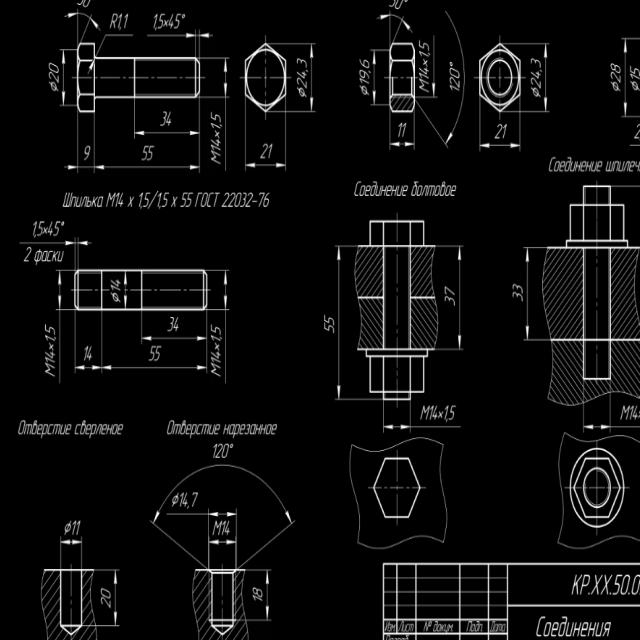marking_line: (334, 249, 344, 397), (104, 364, 206, 374), (95, 162, 199, 171), (523, 250, 533, 341), (65, 10, 101, 35), (456, 248, 464, 349), (622, 40, 631, 116), (147, 32, 215, 42), (142, 334, 206, 344), (542, 47, 550, 112), (479, 142, 521, 152), (112, 570, 119, 626), (221, 59, 231, 98), (59, 53, 66, 105), (221, 272, 231, 307), (63, 161, 95, 171), (384, 421, 413, 432), (209, 507, 235, 518), (74, 363, 103, 372), (243, 164, 284, 170), (390, 141, 416, 150), (57, 273, 63, 307), (208, 539, 239, 545)
numeric: (40, 323, 57, 383), (30, 216, 66, 239), (208, 325, 223, 378), (423, 405, 457, 425), (209, 115, 224, 153), (527, 56, 543, 89), (319, 314, 338, 338), (212, 441, 233, 462), (212, 520, 234, 539), (296, 56, 309, 88), (98, 587, 114, 612), (621, 401, 640, 422), (109, 11, 129, 30), (443, 286, 458, 311), (179, 491, 199, 509), (259, 140, 275, 162), (358, 60, 372, 85), (493, 123, 510, 142), (510, 280, 524, 303), (47, 60, 61, 82), (146, 344, 163, 362), (167, 12, 183, 31), (165, 315, 181, 333), (386, 0, 409, 12), (140, 144, 155, 162), (81, 342, 93, 364), (154, 10, 165, 32), (159, 110, 173, 127), (610, 63, 622, 82), (70, 518, 82, 537), (109, 278, 124, 293), (250, 586, 264, 602), (83, 146, 92, 164), (630, 66, 640, 82), (24, 246, 32, 265), (79, 0, 91, 8)
special_symbol: (528, 85, 541, 102), (356, 83, 370, 97), (110, 290, 122, 306), (628, 77, 640, 92), (63, 518, 73, 535), (171, 490, 180, 508), (610, 79, 620, 95), (298, 86, 308, 99)
